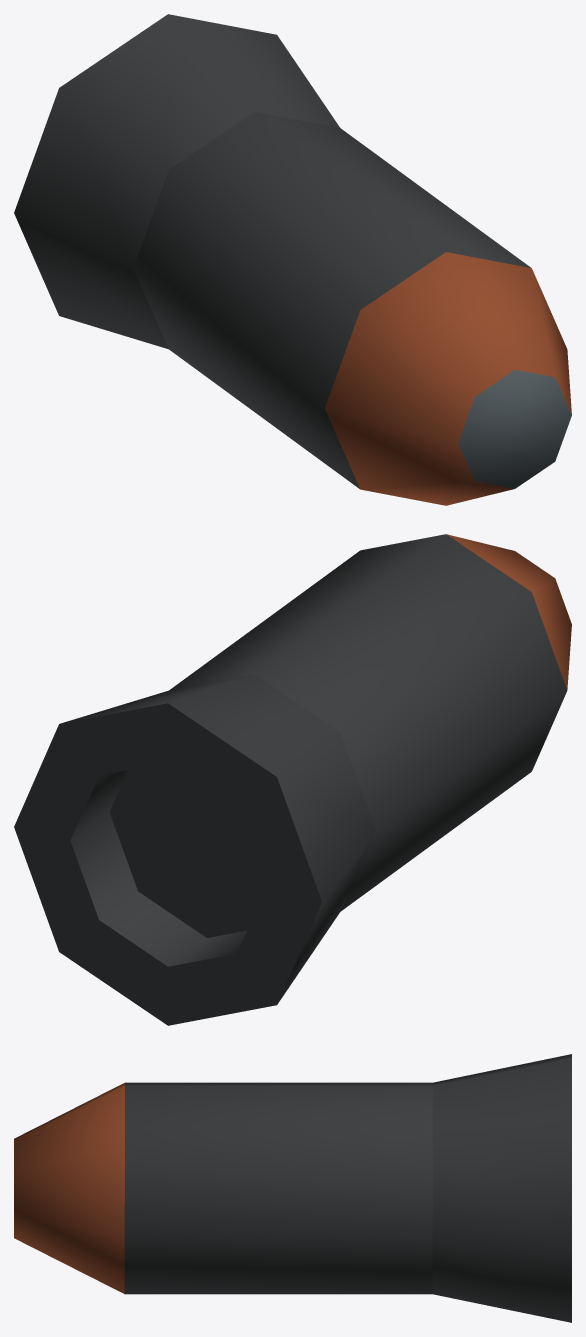
The model's file is missile.fbx.
3 renders of one model, top to bottom at view 1: azimuth 30°, elevation 25°; view 2: azimuth 150°, elevation 25°; view 3: azimuth 270°, elevation 25°, orthographic. The views are drawn at different scales.
Visible parts, largest first — view 1: Homing Missiles.003; view 2: Homing Missiles.003; view 3: Homing Missiles.003.
Part boxes in pixels (x1,y1,x2,y2): Homing Missiles.003: [14, 14, 571, 505]; Homing Missiles.003: [14, 534, 571, 1025]; Homing Missiles.003: [14, 1054, 571, 1322].
Size of the model in its own units: 26.49 by 26.49 by 51.65.
